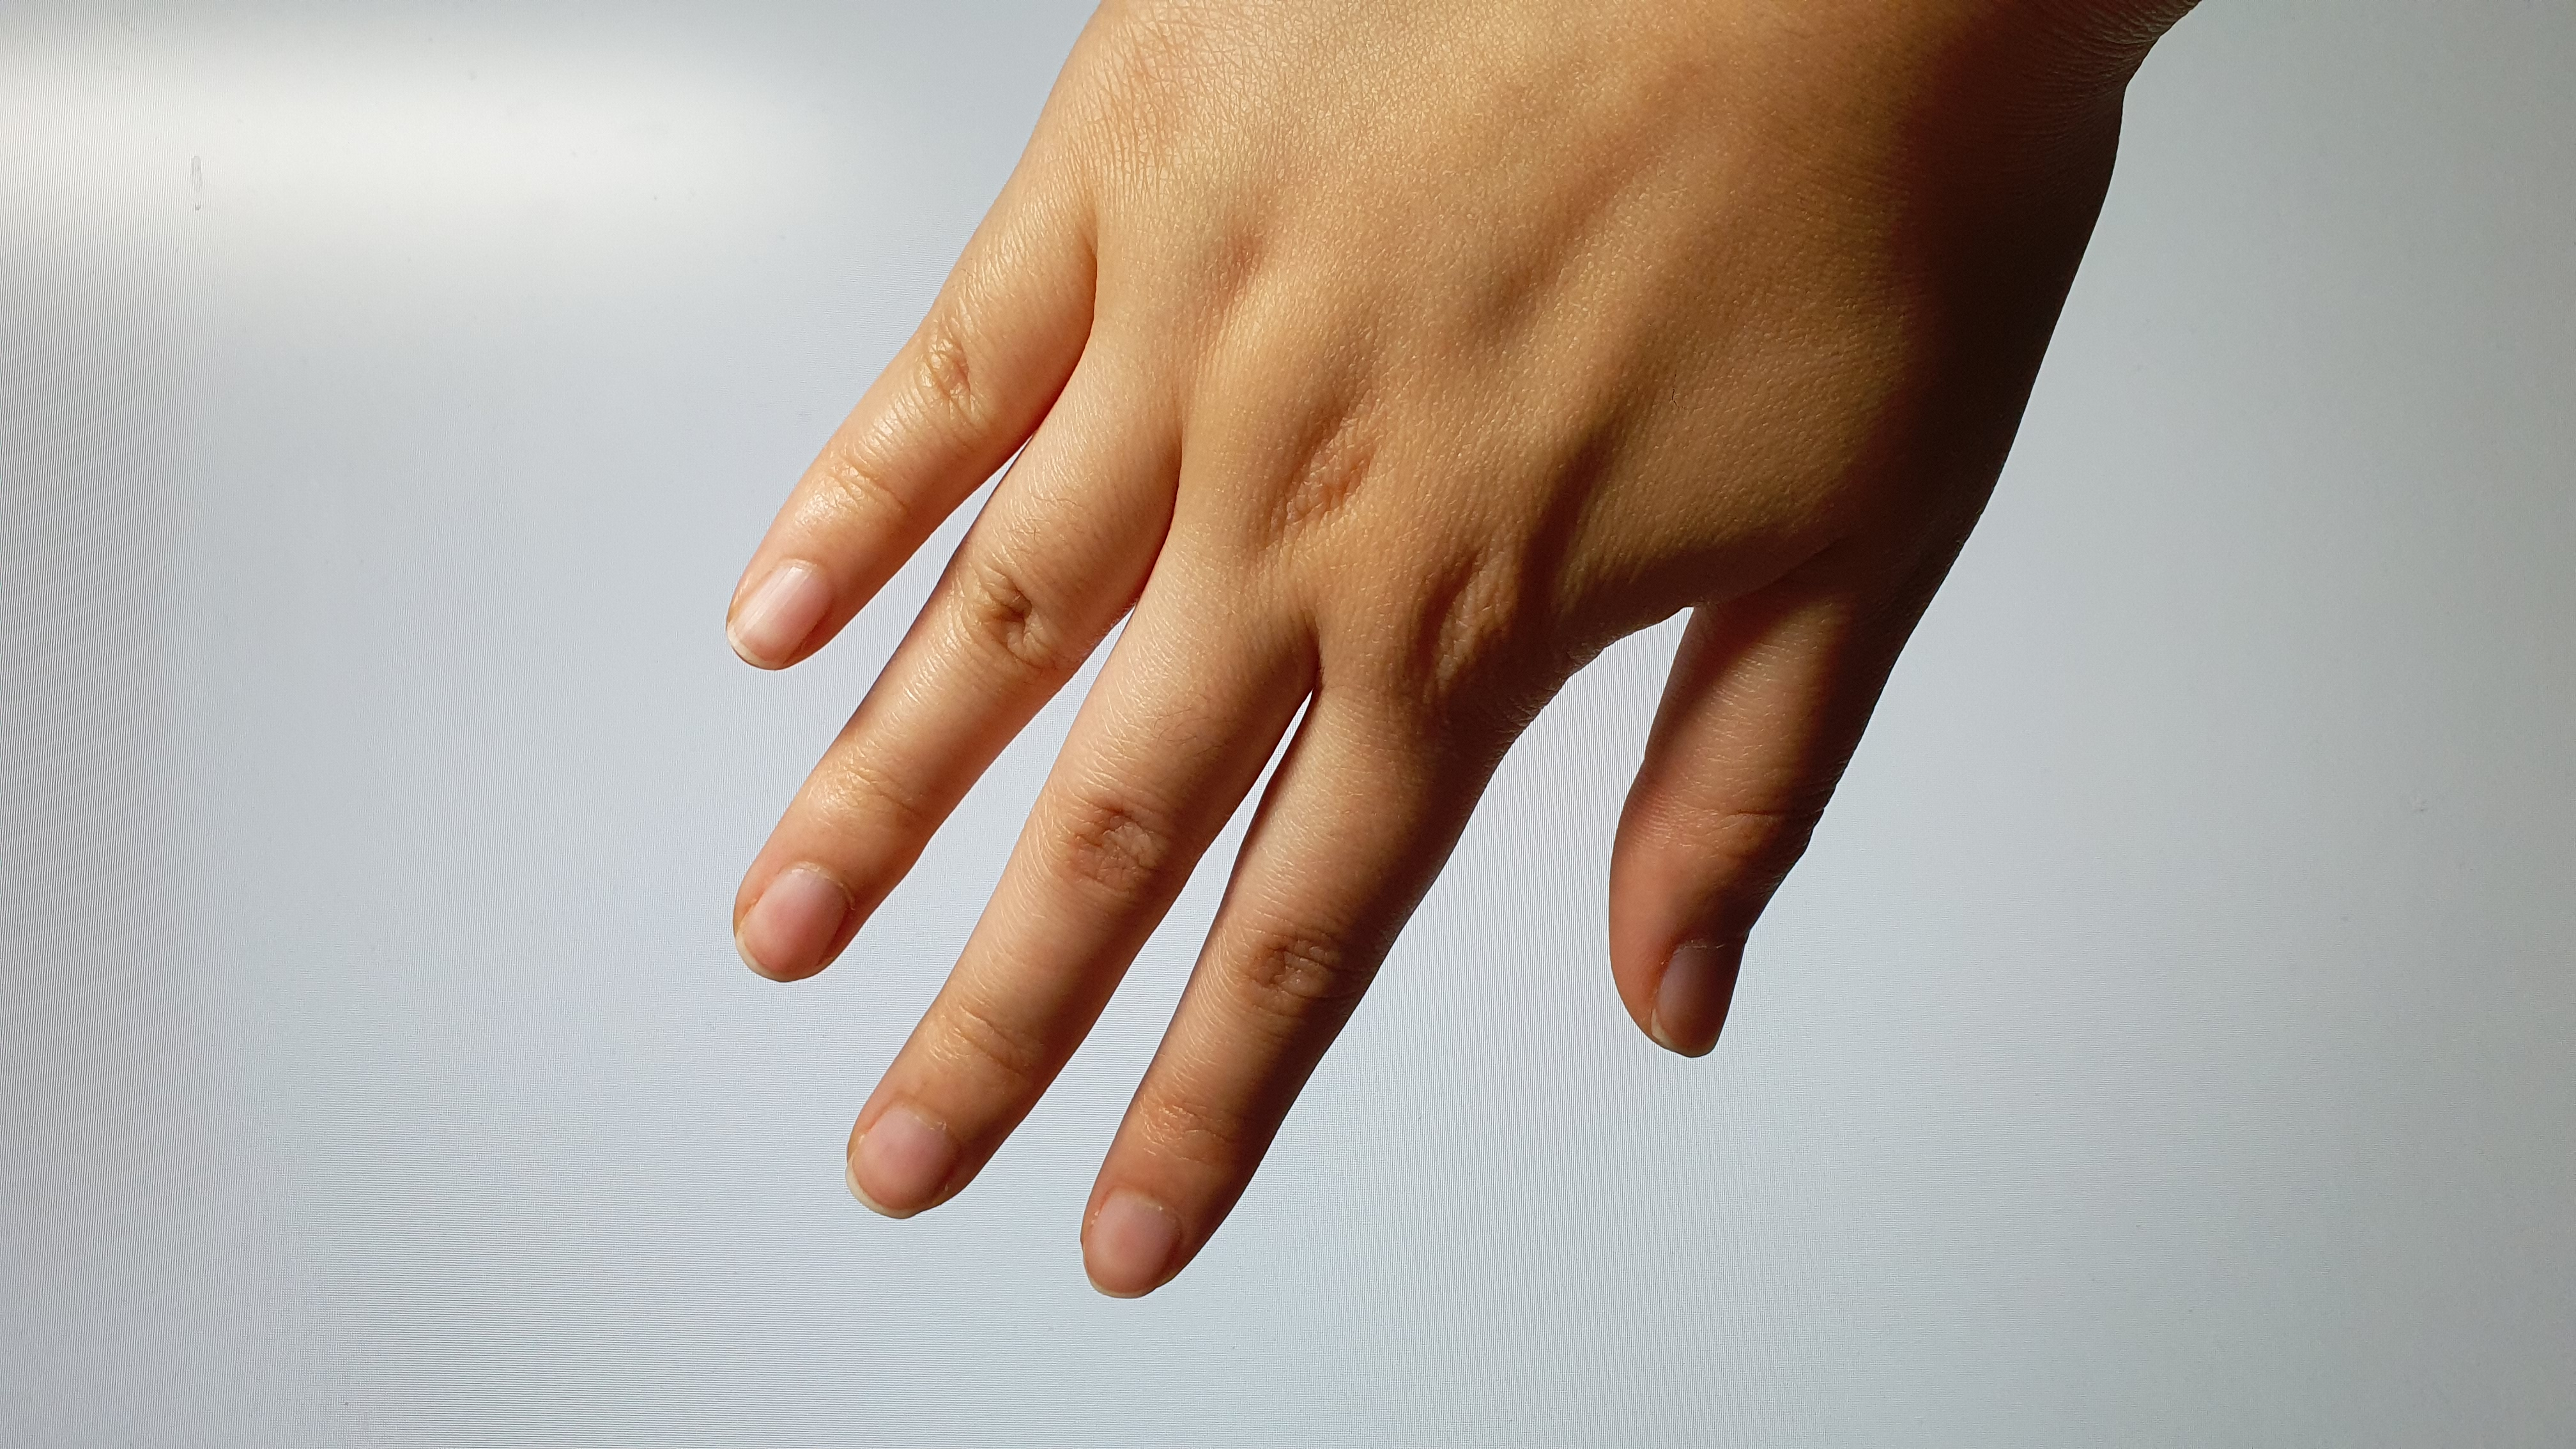backhand: (1046, 0, 2049, 653)
hand: (715, 0, 2086, 1311)
index finger: (1074, 632, 1468, 1311)
middle finger: (837, 543, 1283, 1249)
pinky: (727, 205, 1083, 681)
ring finger: (729, 366, 1161, 994)
thumb: (1591, 543, 1895, 1083)
